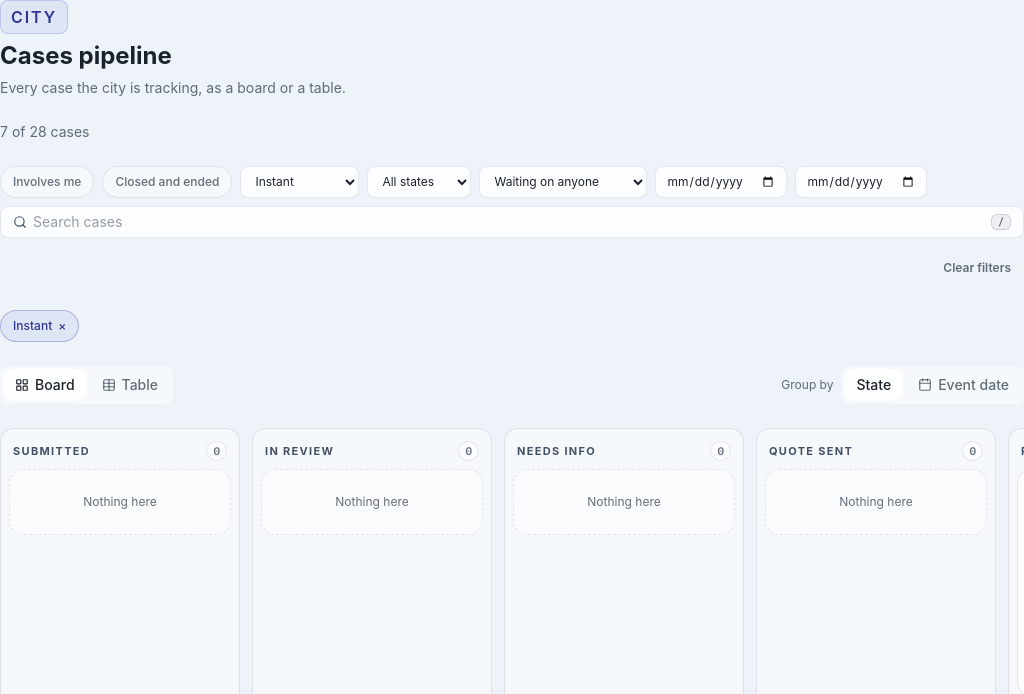
Test: EMPTY: filters with no result, and Clear filters › the Cases board and table both show it, and Clear filters restores the list
This screenshot has width=1024, height=694.
Type "no such event" into the search field labelled "Search cases". click: coordinates (509, 222)
box: [27,206,991,238]
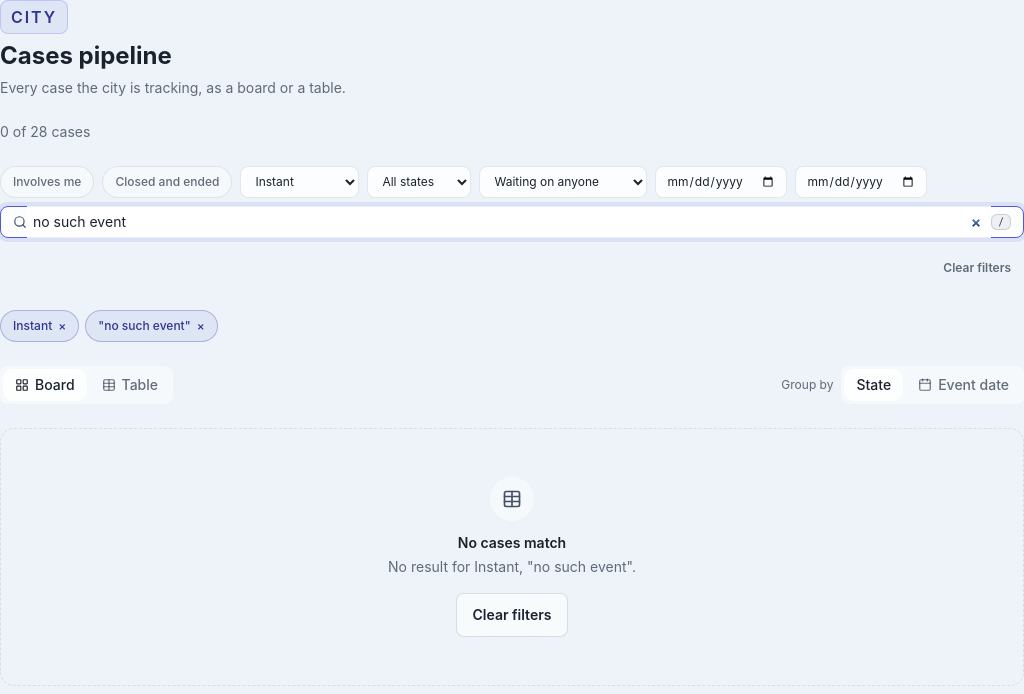
Check: the text "No cases match" is shown, box [458,534,566,551]
Click the button "Clear filters" below "No result for Instant, \"no such event\".". click: coordinates (512, 615)
box: [456,593,568,637]
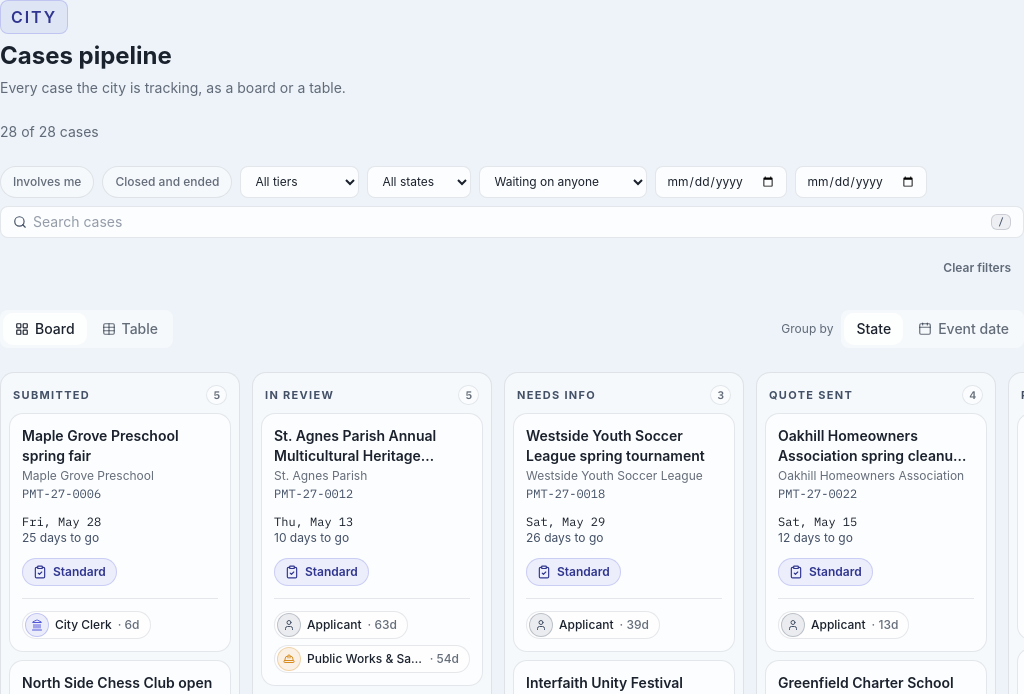
Check: the text "No cases match" is gone
